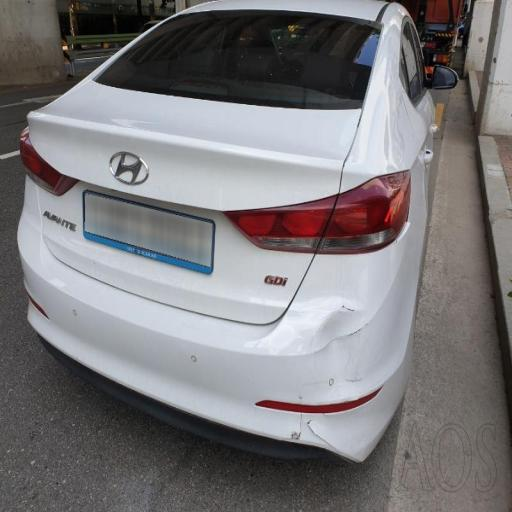dent: (248, 271, 382, 465)
